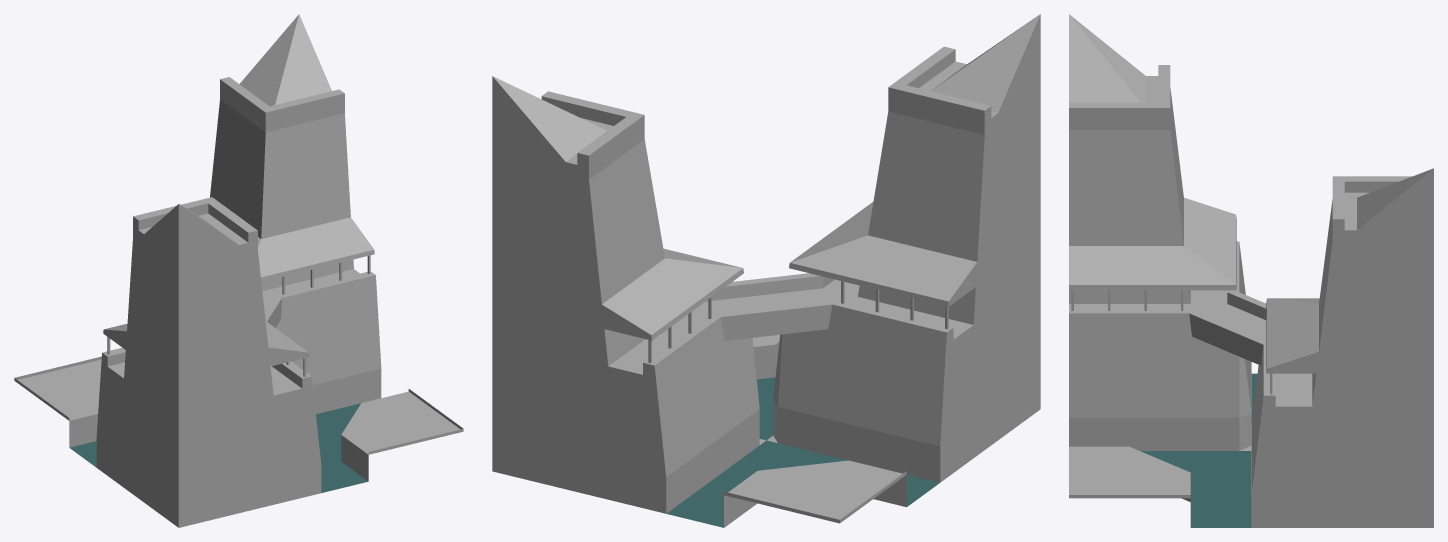
Rendered from wcwc.obj.
The picture shows the model from 3 angles, left to right: view 1: azimuth 30°, elevation 25°; view 2: azimuth 150°, elevation 25°; view 3: azimuth 270°, elevation 25°; orthographic projection. The views are drawn at different scales.
Visible parts, largest first — view 1: wcwc; view 2: wcwc; view 3: wcwc.
Part boxes in pixels (bbox=[...]): wcwc: bbox=[14, 14, 463, 527]; wcwc: bbox=[492, 14, 1040, 527]; wcwc: bbox=[1069, 14, 1433, 527].
Size of the model in its own units: 30 by 32.63 by 30.
